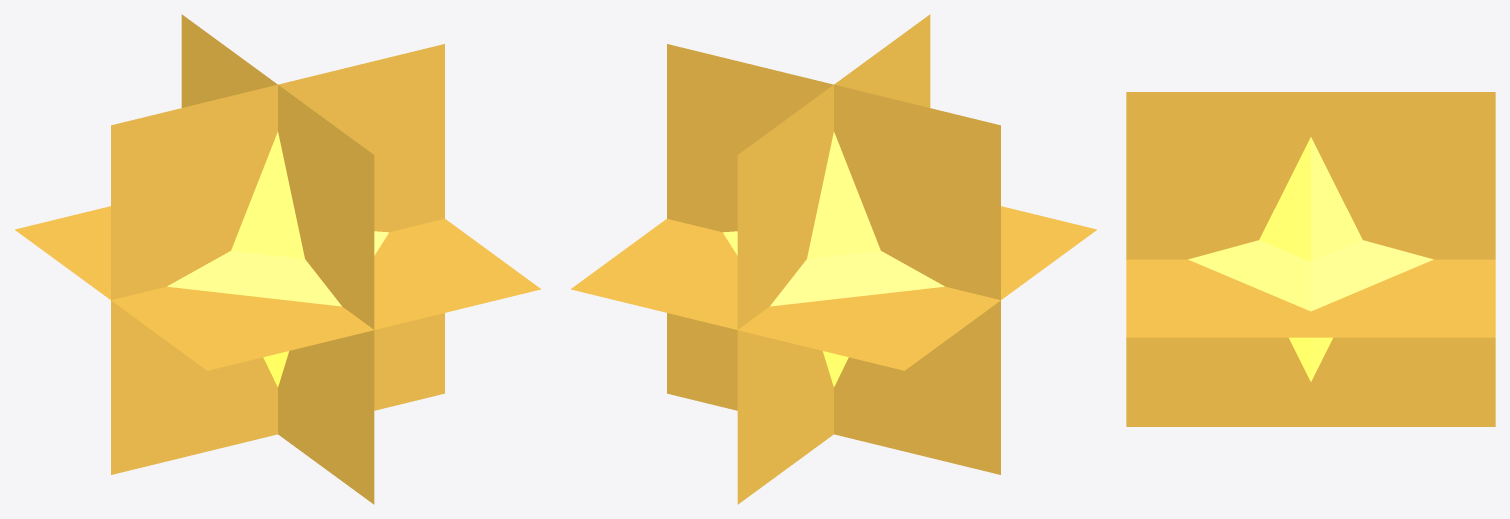
File: fx_shard_asc.glb
The picture shows the model from 3 angles, left to right: view 1: azimuth 30°, elevation 25°; view 2: azimuth 150°, elevation 25°; view 3: azimuth 270°, elevation 25°; orthographic projection. The views are drawn at different scales.
Visible parts, largest first — view 1: fx_shard_glow, fx_shard_crystal; view 2: fx_shard_glow, fx_shard_crystal; view 3: fx_shard_glow, fx_shard_crystal.
Part boxes in pixels (bbox=[...]): fx_shard_glow: bbox=[15, 14, 540, 504]; fx_shard_crystal: bbox=[167, 132, 388, 386]; fx_shard_glow: bbox=[571, 14, 1096, 504]; fx_shard_crystal: bbox=[723, 132, 944, 386]; fx_shard_glow: bbox=[1126, 92, 1495, 426]; fx_shard_crystal: bbox=[1188, 137, 1433, 381].
Size of the model in its own units: 1.2 by 1.2 by 1.2.
2 materials, 1 textured.
